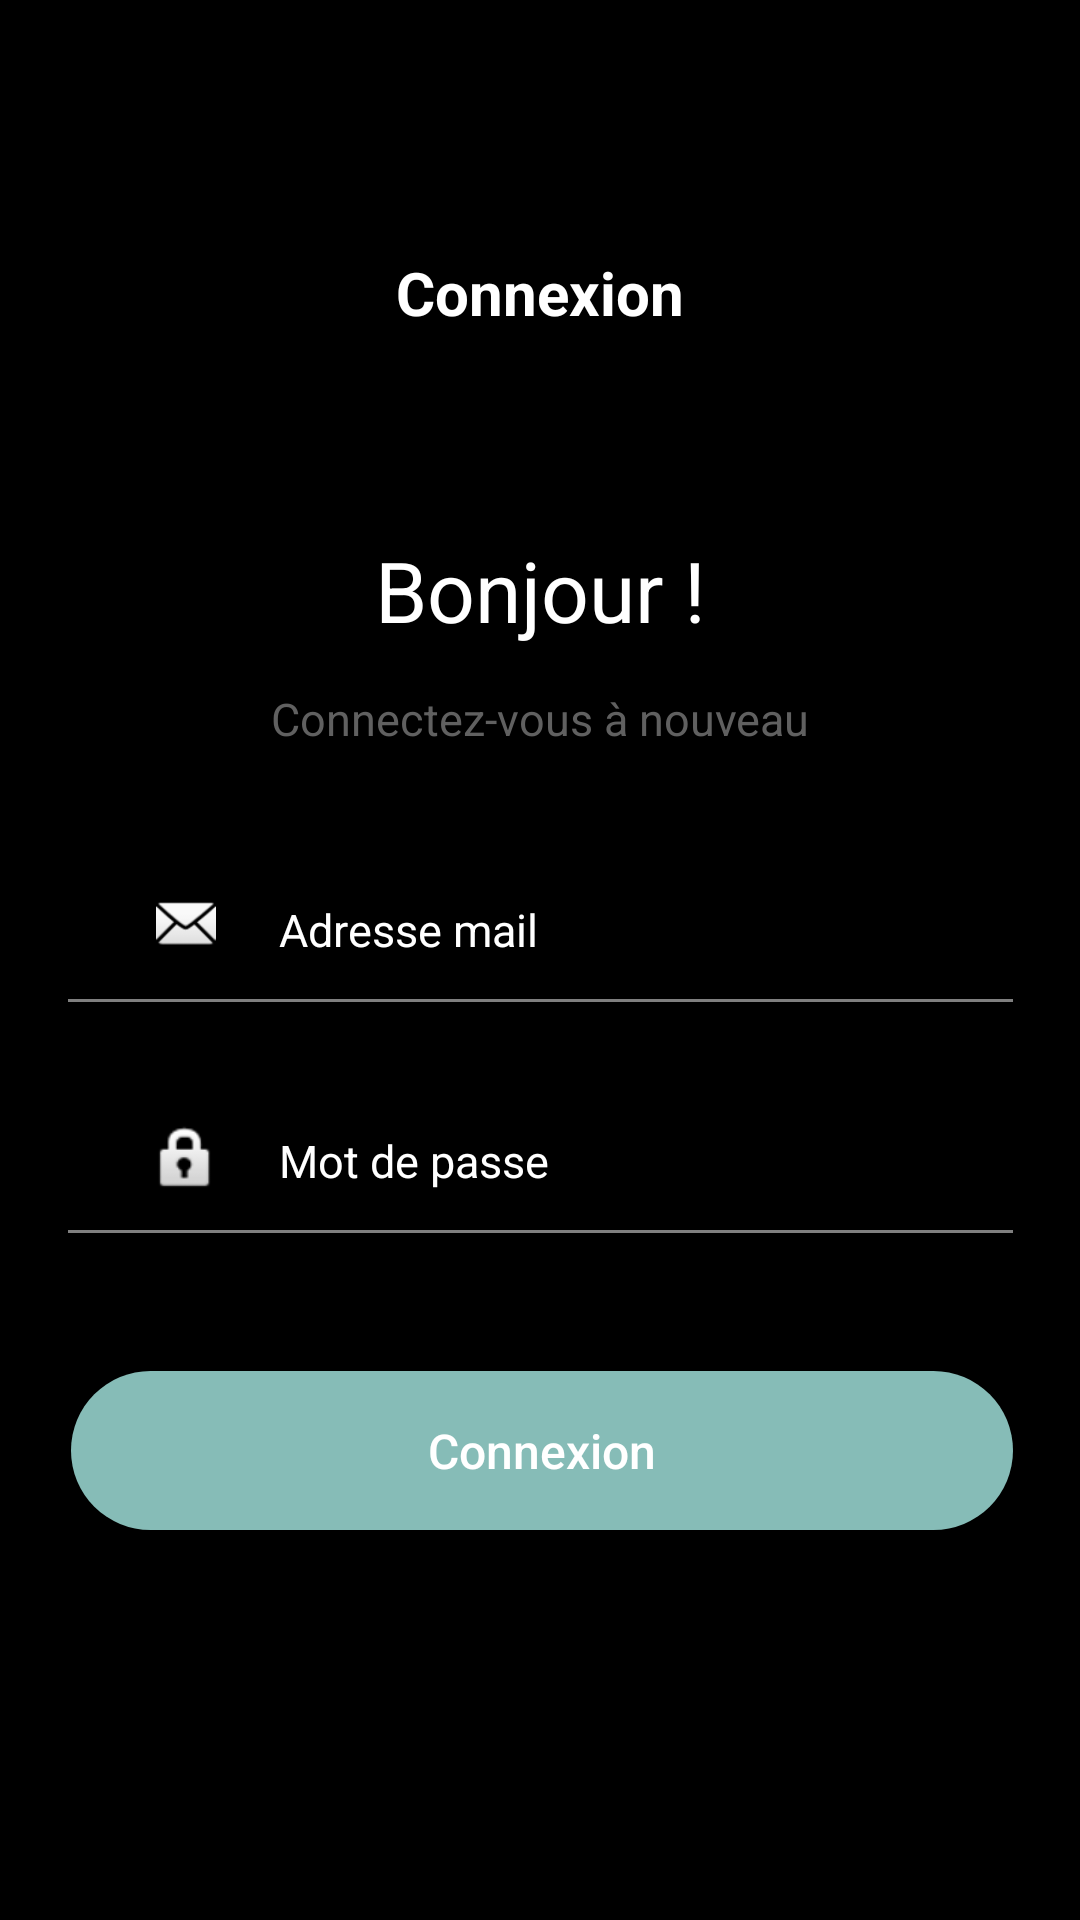

Screen size 1080 x 1920. Icon name, then its center in pixels as (x,y):
lock idle: (184,1157)
